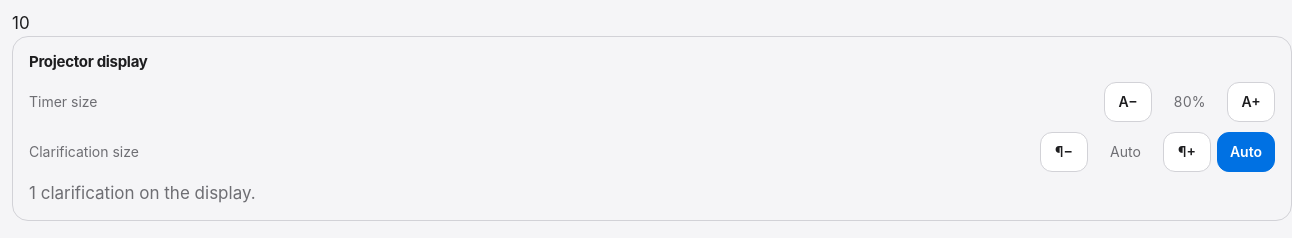
it: proctor page: projector sizes › sends a click to the server, which then holds it
Click the button named "Display timer size: bigger": {"x": 1251, "y": 102} x1=1227 y1=82 x2=1275 y2=122
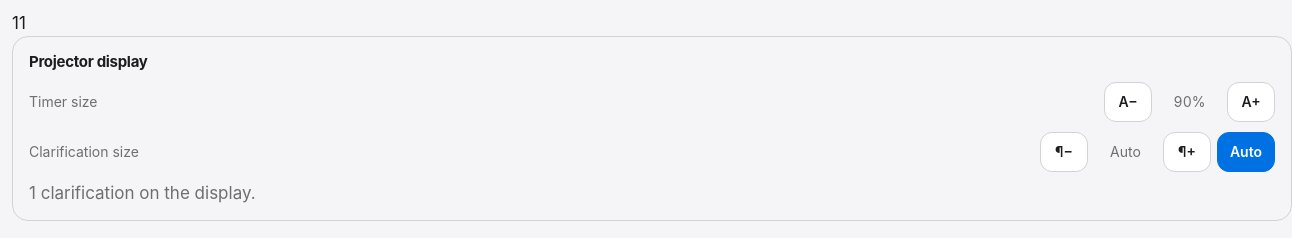
Expected: the text with test id "version" reads "11", x1=12 y1=13 x2=26 y2=33
